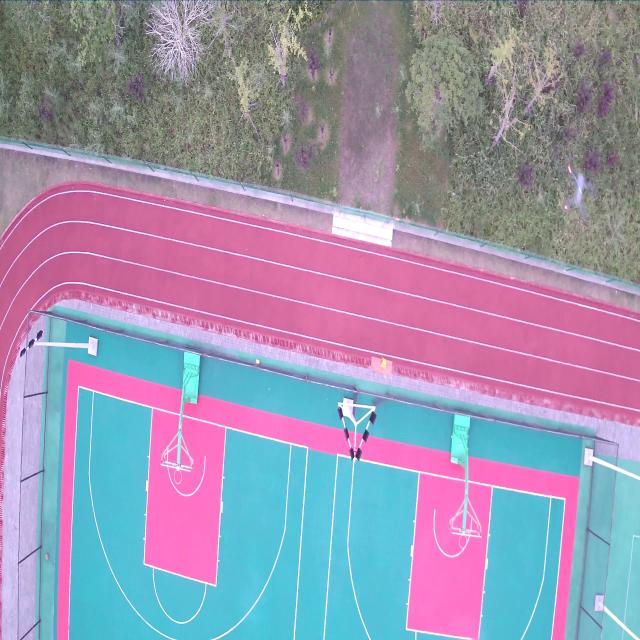UAV: (564, 164, 594, 222)
